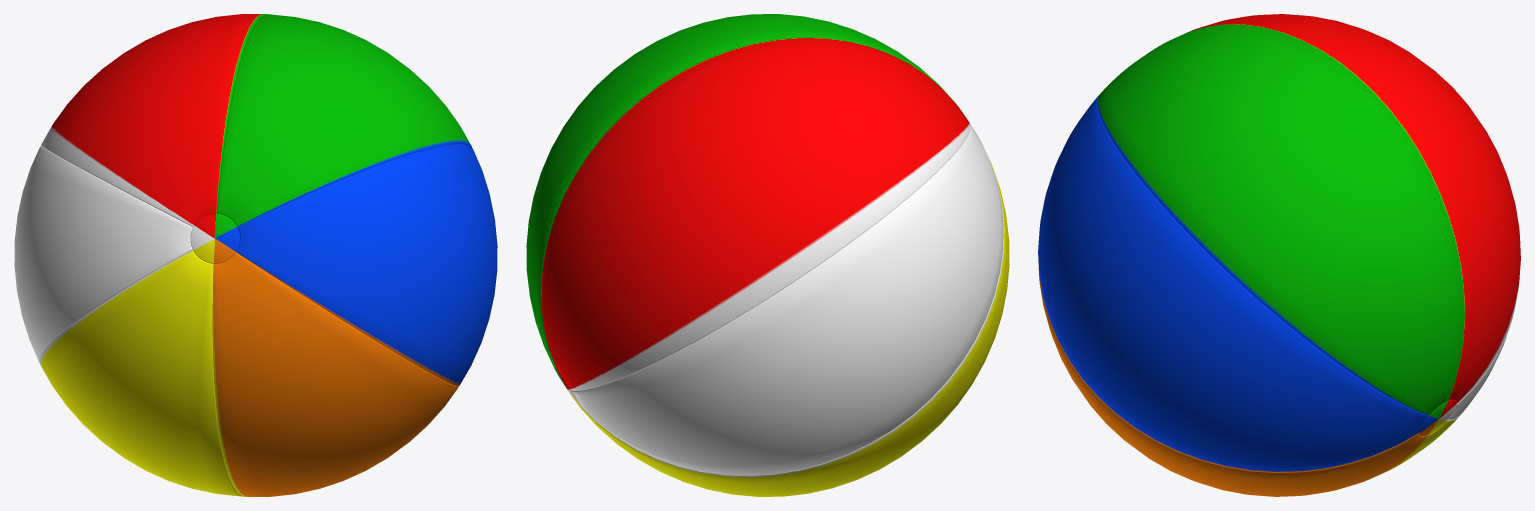
File: beachball1.obj
The picture shows the model from 3 angles, left to right: view 1: azimuth 30°, elevation 25°; view 2: azimuth 150°, elevation 25°; view 3: azimuth 270°, elevation 25°; orthographic projection.
Parts seen in each view (by area): view 1: beachball; view 2: beachball; view 3: beachball.
Boxes of the visible parts, x1=… form: beachball: x1=14, y1=14, x2=497, y2=496; beachball: x1=526, y1=14, x2=1009, y2=496; beachball: x1=1038, y1=14, x2=1520, y2=496.
Size of the model in its own units: 1.5 by 1.5 by 1.5.
Materials: 1 (1 with a texture image).
